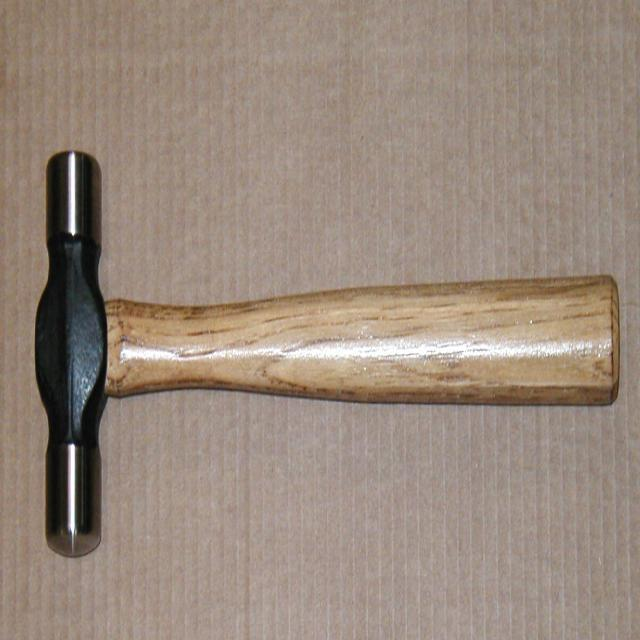hammer: (26, 119, 626, 568)
